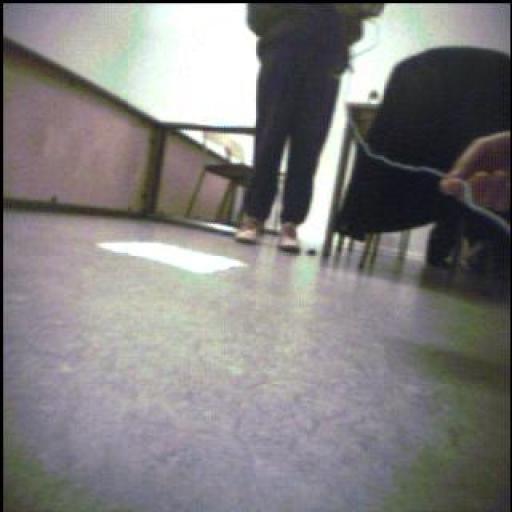Pad: (85, 238, 248, 280)
